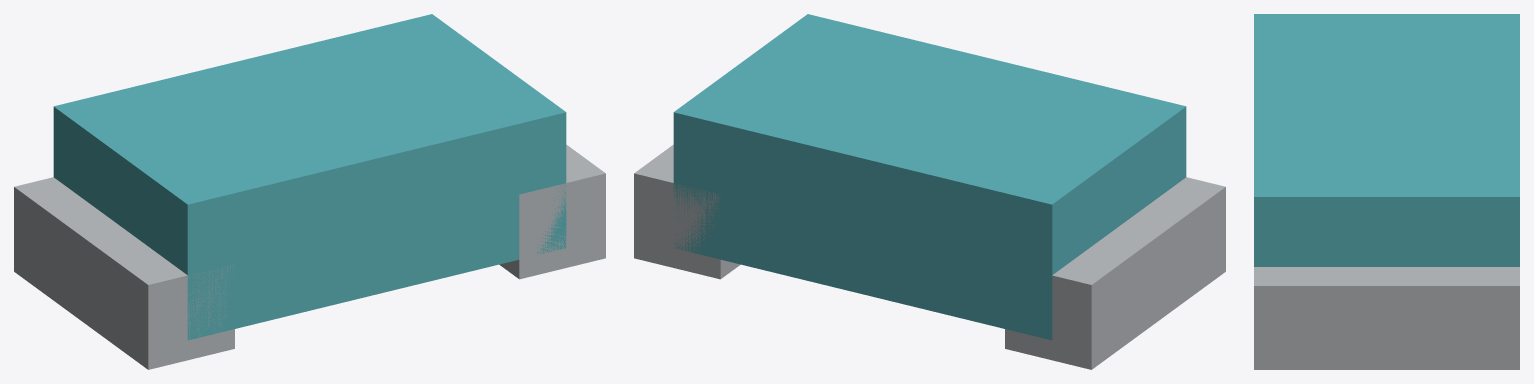
The model's file is 131_L112_LED7.glb.
3 views of the same model, side by side, from view 1: azimuth 30°, elevation 25°; view 2: azimuth 150°, elevation 25°; view 3: azimuth 270°, elevation 25° (orthographic).
Visible parts, largest first — view 1: part000__PSMAT__Signal_Cyan, part001__PSMAT__Tin_Solder, part002__PSMAT__Tin_Solder; view 2: part000__PSMAT__Signal_Cyan, part001__PSMAT__Tin_Solder, part002__PSMAT__Tin_Solder; view 3: part000__PSMAT__Signal_Cyan, part002__PSMAT__Tin_Solder.
Part boxes in pixels (x1,y1,x2,y2): part000__PSMAT__Signal_Cyan: (53, 14, 566, 340); part001__PSMAT__Tin_Solder: (14, 177, 234, 369); part002__PSMAT__Tin_Solder: (499, 144, 605, 279); part000__PSMAT__Signal_Cyan: (673, 14, 1186, 340); part001__PSMAT__Tin_Solder: (1005, 177, 1225, 369); part002__PSMAT__Tin_Solder: (634, 144, 740, 279); part000__PSMAT__Signal_Cyan: (1254, 14, 1519, 266); part002__PSMAT__Tin_Solder: (1254, 267, 1519, 369).
Bounding box in the file's own units: 0.00423 × 0.00137 × 0.00215.
